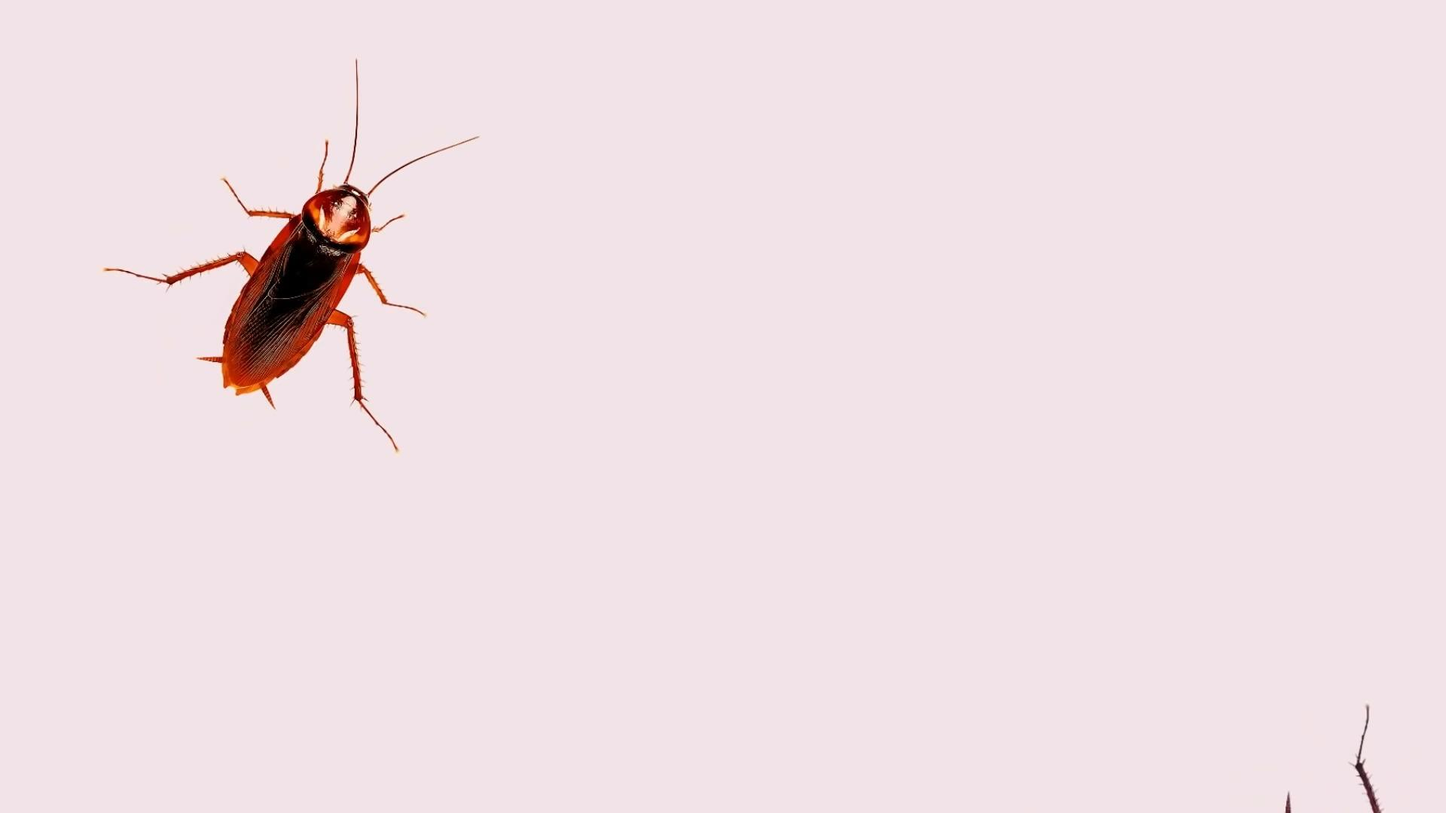cockroach: (166, 104, 420, 408)
